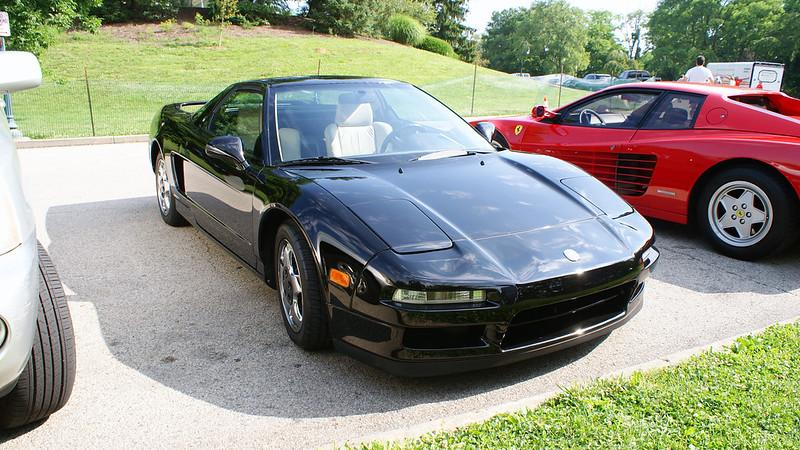windshield: (264, 78, 505, 170)
